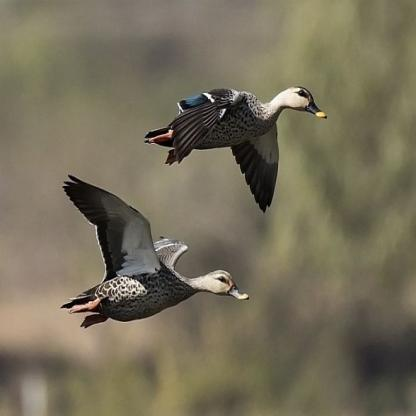Burung: (143, 86, 327, 213)
